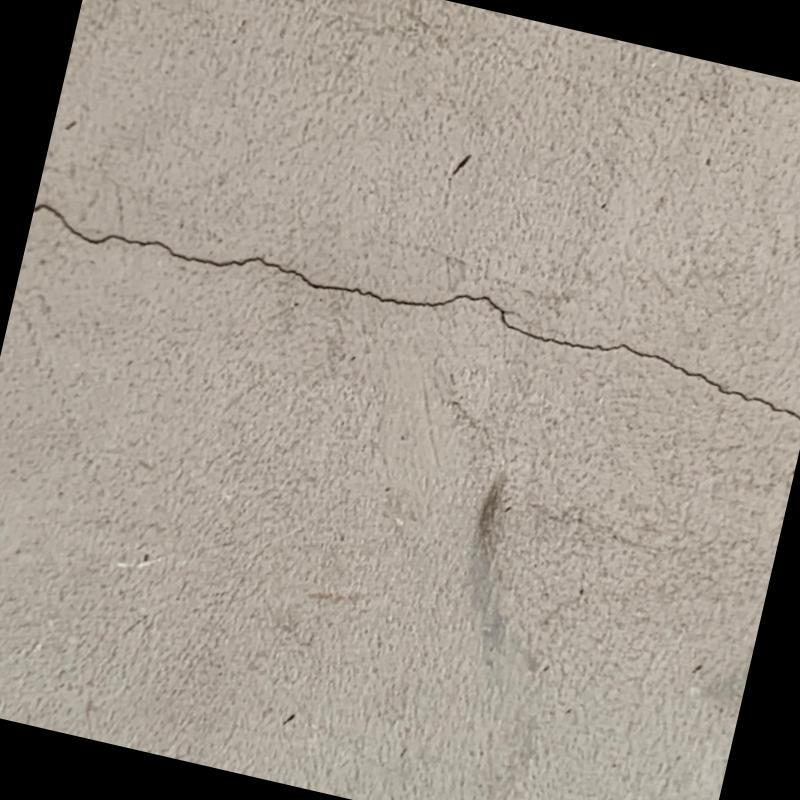pothole: (28, 190, 800, 440)
